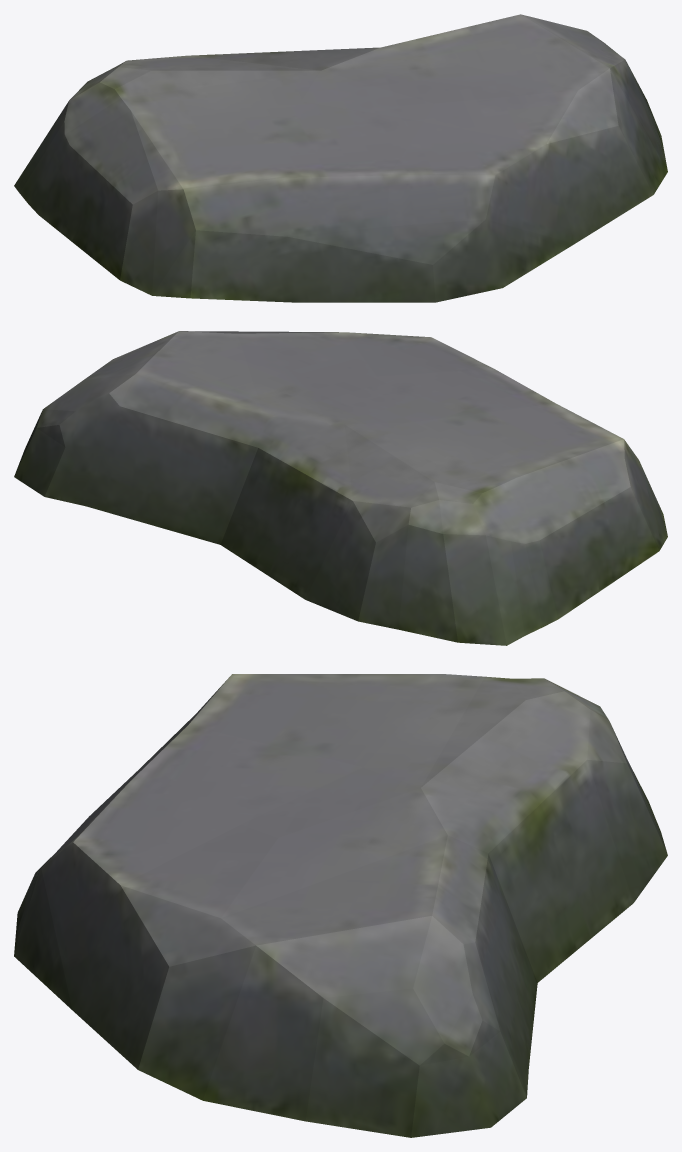
The model's file is Pebble_Round_1.gltf.
3 views of the same model, one above another, from view 1: azimuth 30°, elevation 25°; view 2: azimuth 150°, elevation 25°; view 3: azimuth 270°, elevation 25° (orthographic). The views are drawn at different scales.
Parts seen in each view (by area): view 1: Pebble_Round_1; view 2: Pebble_Round_1; view 3: Pebble_Round_1.
Part boxes in pixels (bbox=[...]): Pebble_Round_1: bbox=[14, 14, 667, 302]; Pebble_Round_1: bbox=[14, 331, 667, 645]; Pebble_Round_1: bbox=[14, 674, 667, 1137].
Size of the model in its own units: 0.5 by 0.0955 by 0.367.
1 material, 1 textured.
